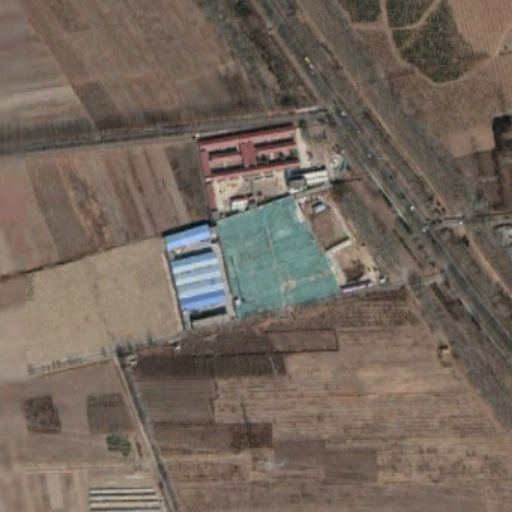cw: (216, 195, 337, 320)
